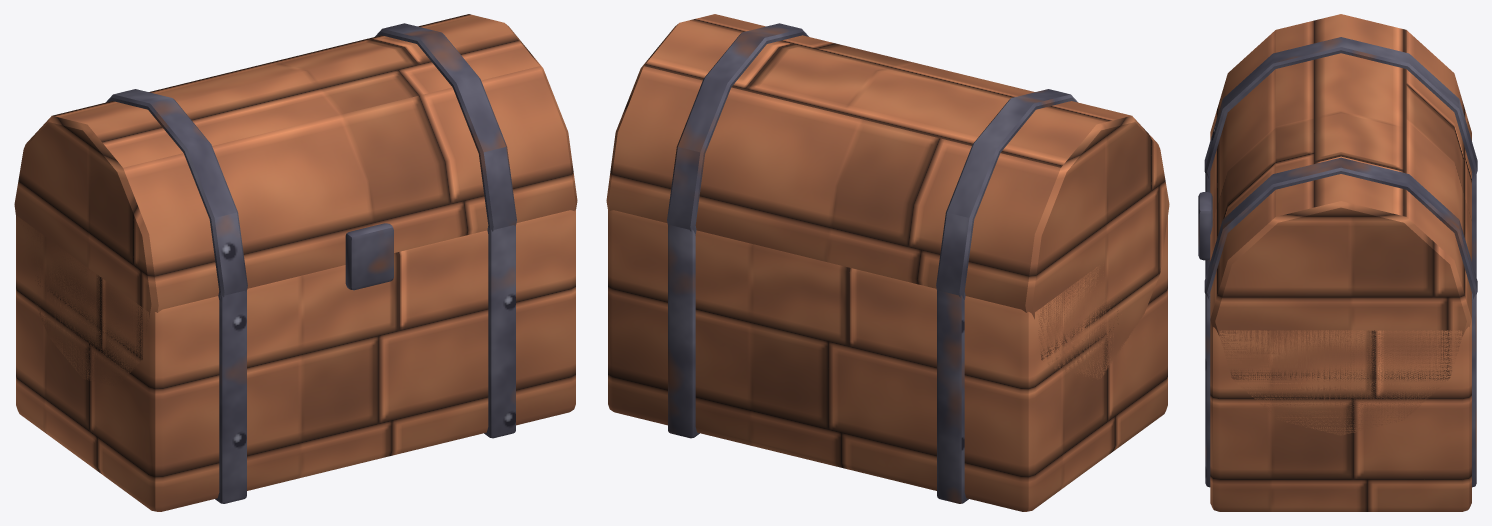
The model's file is chest.gltf.
3 renders of one model, left to right at view 1: azimuth 30°, elevation 25°; view 2: azimuth 150°, elevation 25°; view 3: azimuth 270°, elevation 25°, orthographic. The views are drawn at different scales.
Visible parts, largest first — view 1: INT_chest_lid, chest_mesh; view 2: INT_chest_lid, chest_mesh; view 3: INT_chest_lid, chest_mesh.
Part boxes in pixels (bbox=[...]): INT_chest_lid: bbox=[14, 14, 577, 386]; chest_mesh: bbox=[16, 209, 575, 511]; INT_chest_lid: bbox=[606, 14, 1169, 379]; chest_mesh: bbox=[608, 209, 1167, 511]; INT_chest_lid: bbox=[1198, 14, 1477, 435]; chest_mesh: bbox=[1205, 173, 1476, 511].
Size of what is drawn, in the model's own units: 0.95 by 0.742 by 0.587.
Materials: 2 (2 with a texture image).
